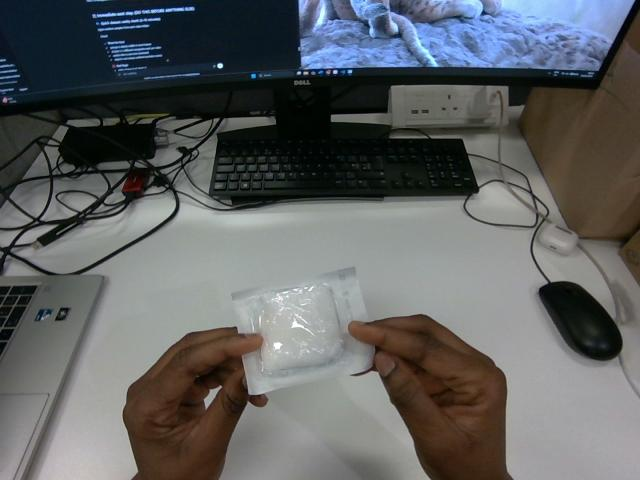gauze: (232, 268, 373, 394)
